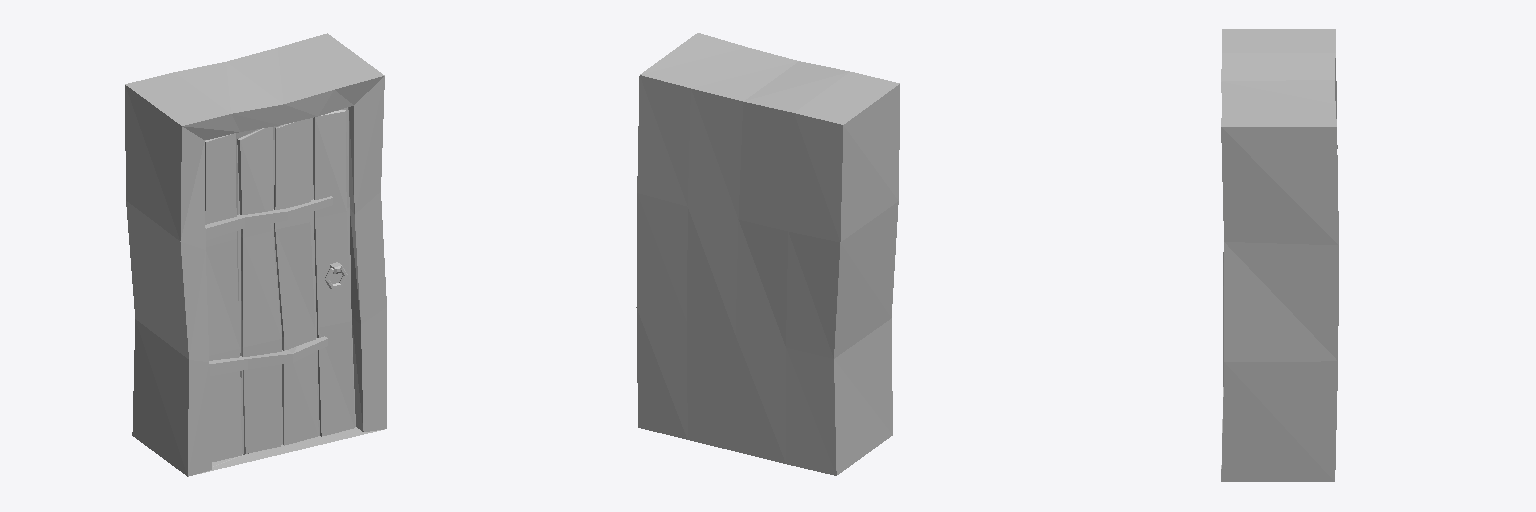
The model's file is Door.obj.
3 views of the same model, side by side, from view 1: azimuth 30°, elevation 25°; view 2: azimuth 150°, elevation 25°; view 3: azimuth 270°, elevation 25° (orthographic).
Parts seen in each view (by area): view 1: Door_Cube.019; view 2: Door_Cube.019; view 3: Door_Cube.019.
Boxes of the visible parts, <box> form: Door_Cube.019: <box>125,33,386,476</box>; Door_Cube.019: <box>636,33,899,475</box>; Door_Cube.019: <box>1221,29,1338,481</box>.
Size of the model in its own units: 5.06 by 8.32 by 2.51.